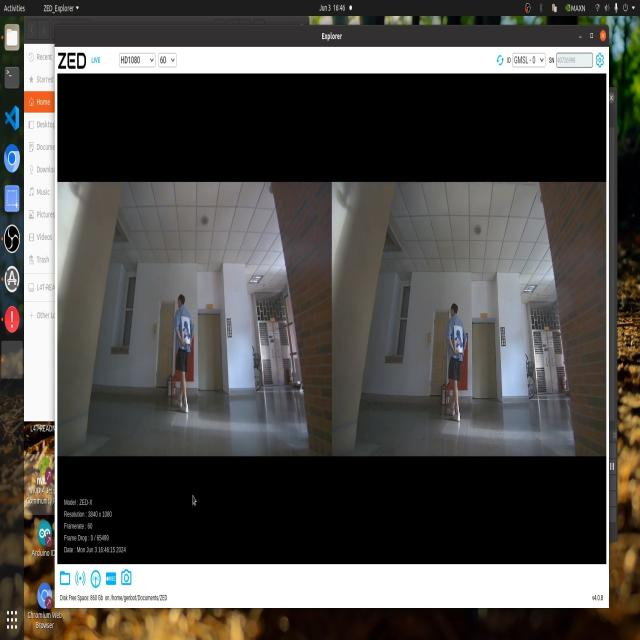blue: (174, 309, 197, 352), (455, 327, 466, 353)
